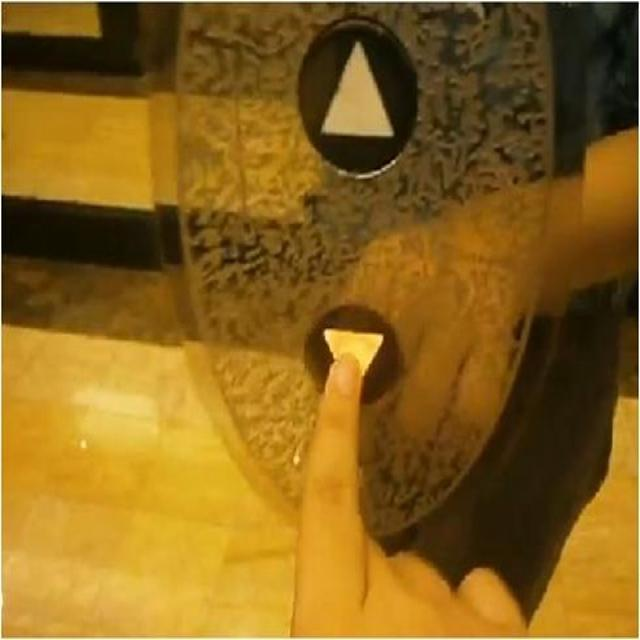down: (304, 303, 400, 405)
up: (297, 16, 418, 177)
